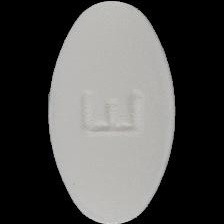65862-143: (0, 0, 224, 224)
